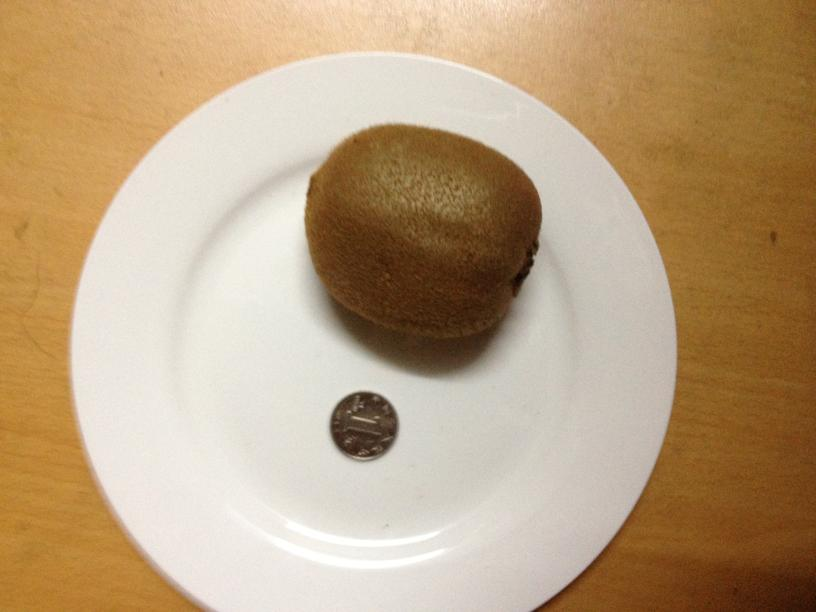coin: (332, 390, 398, 460)
qiwi: (304, 126, 541, 338)
